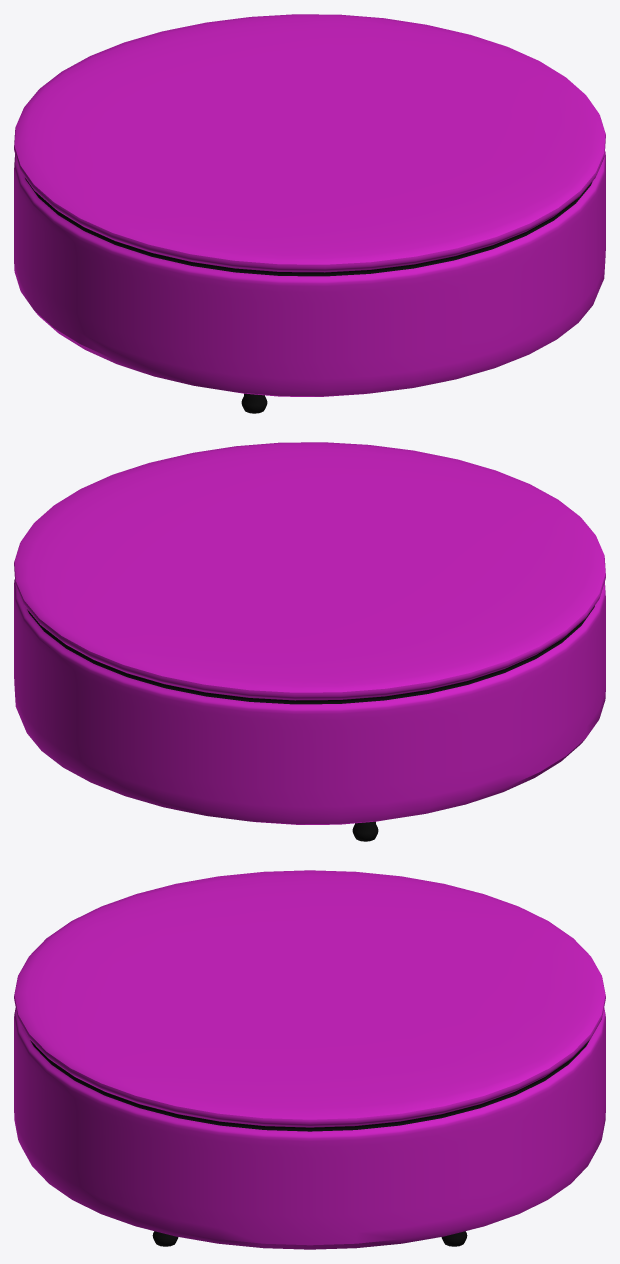
Rendered from seggiolo.glb.
3 renders of one model, top to bottom at view 1: azimuth 30°, elevation 25°; view 2: azimuth 150°, elevation 25°; view 3: azimuth 270°, elevation 25°, orthographic.
Visible parts, largest first — view 1: Cylinder.002; view 2: Cylinder.002; view 3: Cylinder.002, Cylinder.003.
Boxes of the visible parts, x1,y1,x2,y2 form: Cylinder.002: (14,14,605,396); Cylinder.002: (14,442,605,824); Cylinder.002: (14,870,605,1249); Cylinder.003: (152,1231,467,1246).
Size of the model in its own units: 1.12 by 0.3988 by 1.12.
